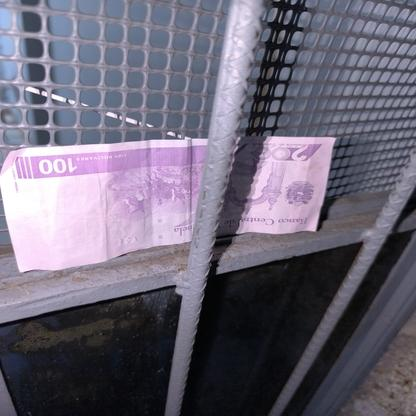one_hundred-back-vef: (0, 136, 335, 273)
